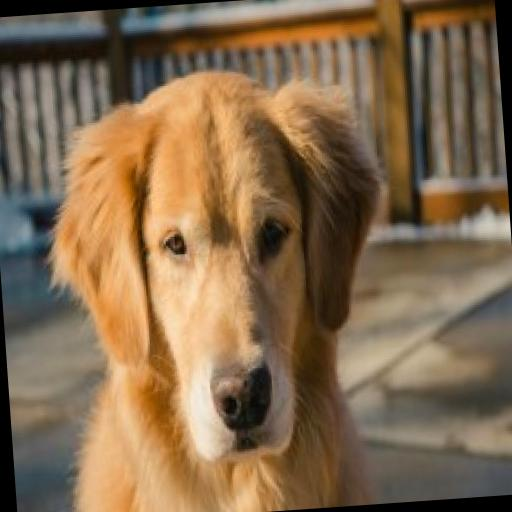dog: (32, 52, 411, 512)
